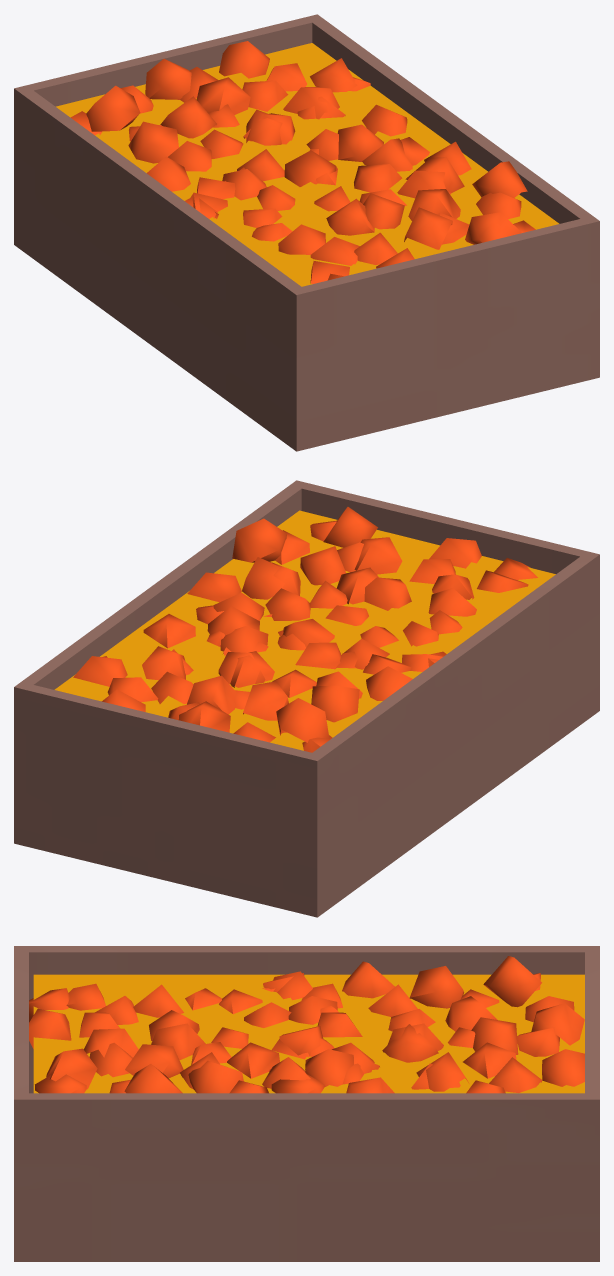
The model's file is shop_087.glb.
3 views of the same model, one above another, from view 1: azimuth 30°, elevation 25°; view 2: azimuth 150°, elevation 25°; view 3: azimuth 270°, elevation 25° (orthographic). The views are drawn at different scales.
Parts seen in each view (by area): view 1: shop_087; view 2: shop_087; view 3: shop_087.
Boxes of the visible parts, <box> form: shop_087: <box>14,14,599,451</box>; shop_087: <box>14,480,599,917</box>; shop_087: <box>14,946,599,1261</box>.
Bounding box in the file's own units: 0.3909 × 0.2152 × 0.6302.
Materials: 1 (1 with a texture image).
